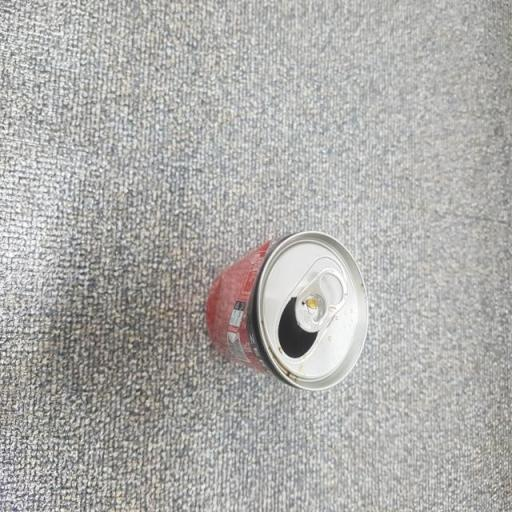metal: (188, 210, 376, 422)
